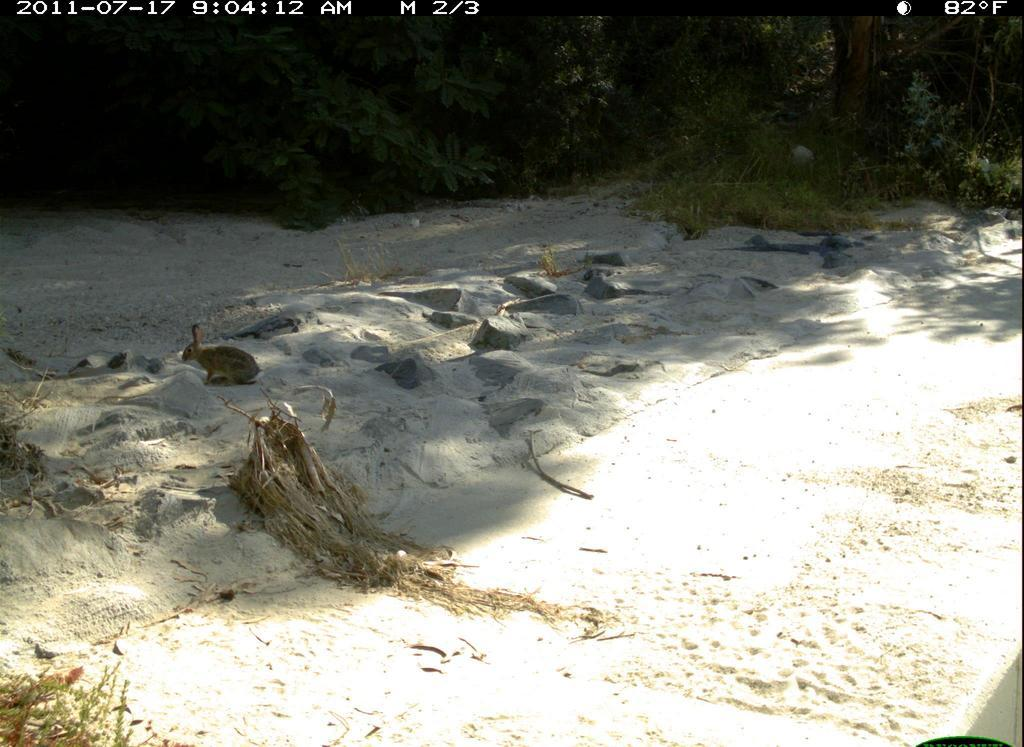rabbit: (176, 322, 267, 393)
